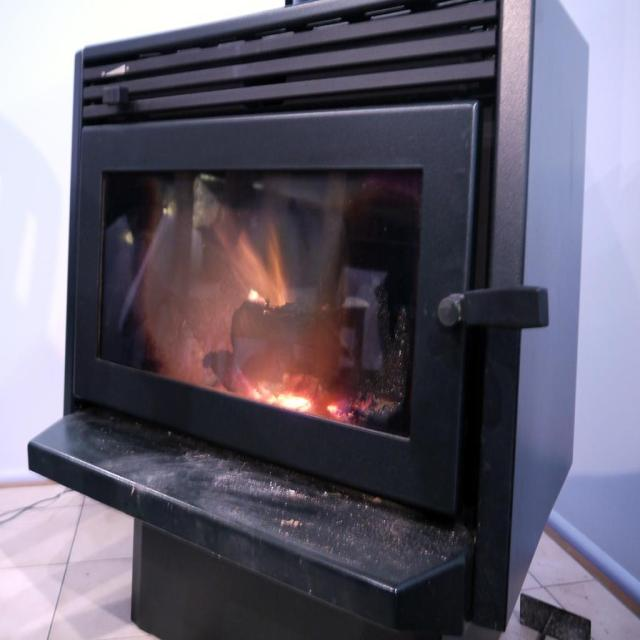Fire: (194, 196, 358, 422)
